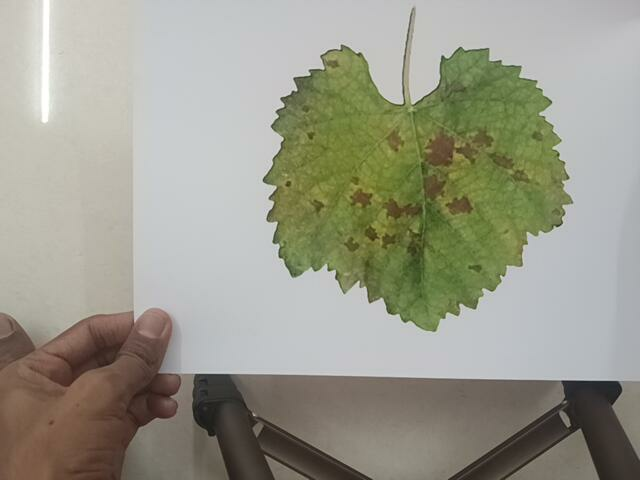Grape_Leaf_Vine_Disease: (252, 27, 555, 340)
